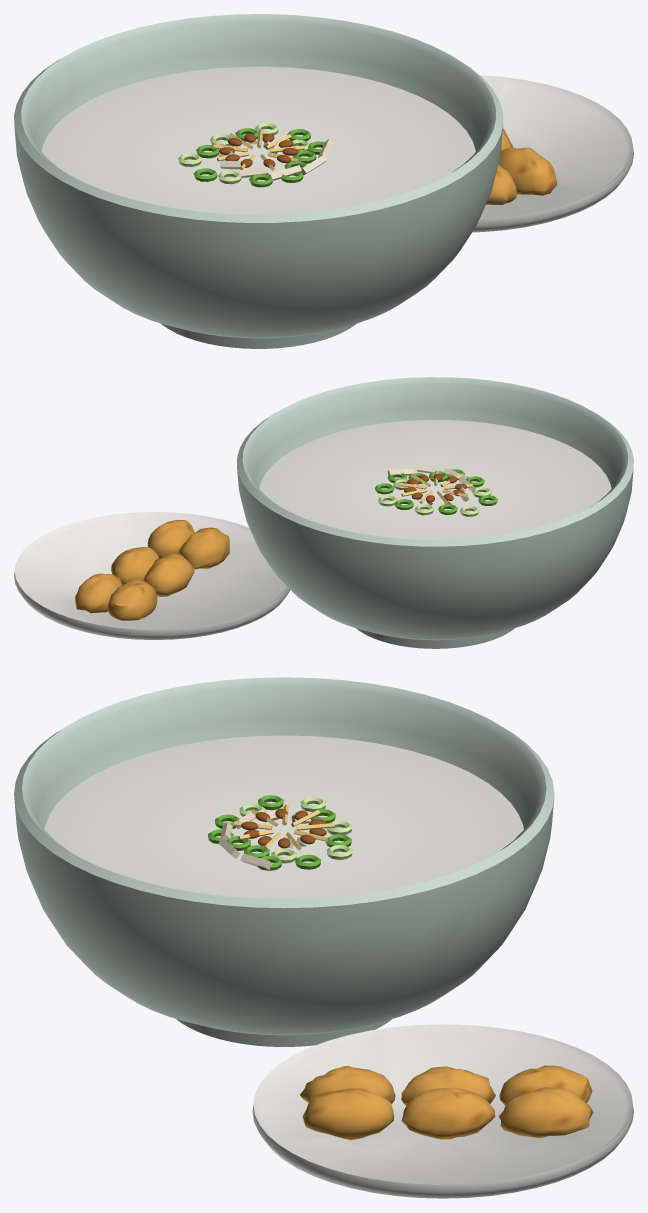
The model's file is dish-congee-lod0.glb.
The picture shows the model from 3 angles, top to bottom: view 1: azimuth 30°, elevation 25°; view 2: azimuth 150°, elevation 25°; view 3: azimuth 270°, elevation 25°; orthographic projection. The views are drawn at different scales.
Parts seen in each view (by area): view 1: congee.lod0__table celadon, congee.lod0__food glaze, congee.lod0__table porcelain, congee.lod0__food; view 2: congee.lod0__table celadon, congee.lod0__food glaze, congee.lod0__table porcelain, congee.lod0__food; view 3: congee.lod0__table celadon, congee.lod0__food glaze, congee.lod0__table porcelain, congee.lod0__food.
Part boxes in pixels (x1=…): congee.lod0__table celadon: x1=14, y1=14, x2=503, y2=348; congee.lod0__food glaze: x1=41, y1=66, x2=475, y2=214; congee.lod0__table porcelain: x1=472, y1=75, x2=633, y2=232; congee.lod0__food: x1=178, y1=123, x2=557, y2=204; congee.lod0__table celadon: x1=237, y1=377, x2=633, y2=648; congee.lod0__food glaze: x1=259, y1=420, x2=611, y2=539; congee.lod0__table porcelain: x1=14, y1=512, x2=290, y2=639; congee.lod0__food: x1=75, y1=465, x2=497, y2=620; congee.lod0__table celadon: x1=14, y1=677, x2=554, y2=1046; congee.lod0__food glaze: x1=44, y1=735, x2=523, y2=898; congee.lod0__table porcelain: x1=252, y1=1024, x2=633, y2=1198; congee.lod0__food: x1=208, y1=795, x2=593, y2=1140.
Size of the model in its own units: 0.255 by 0.072 by 0.195.
